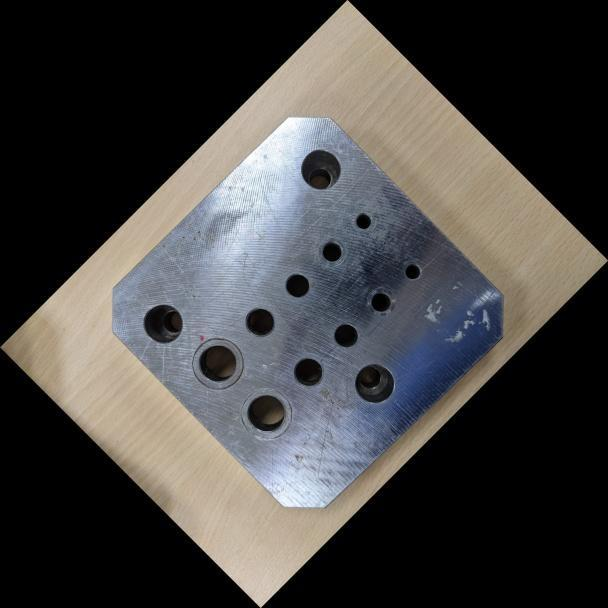hole: (170, 319, 261, 409), (222, 371, 307, 457), (282, 130, 358, 206), (127, 287, 199, 360), (339, 348, 410, 419), (279, 343, 336, 401), (231, 294, 288, 351), (351, 273, 408, 330), (319, 309, 369, 360), (273, 260, 323, 310), (306, 226, 355, 275), (339, 197, 385, 243), (389, 249, 433, 292)
